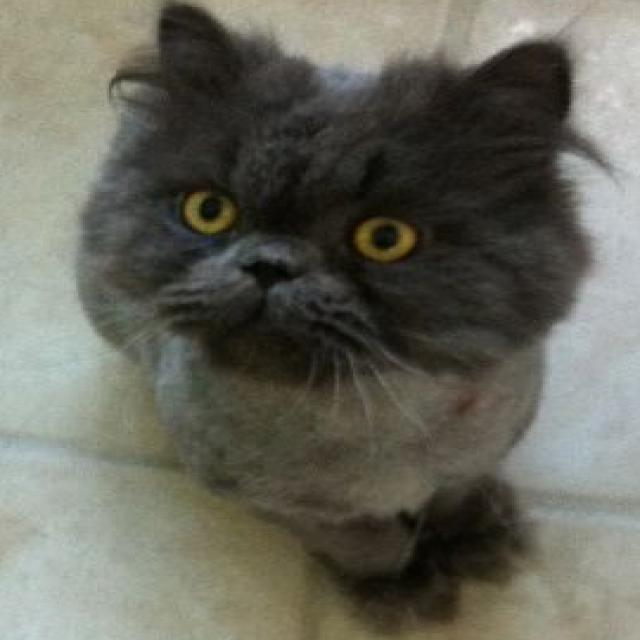Persian: (64, 0, 600, 640)
